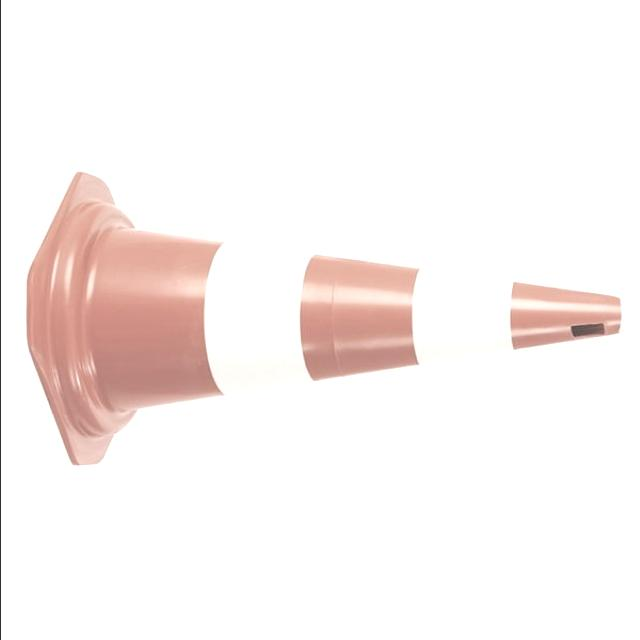cone: (19, 168, 623, 469)
